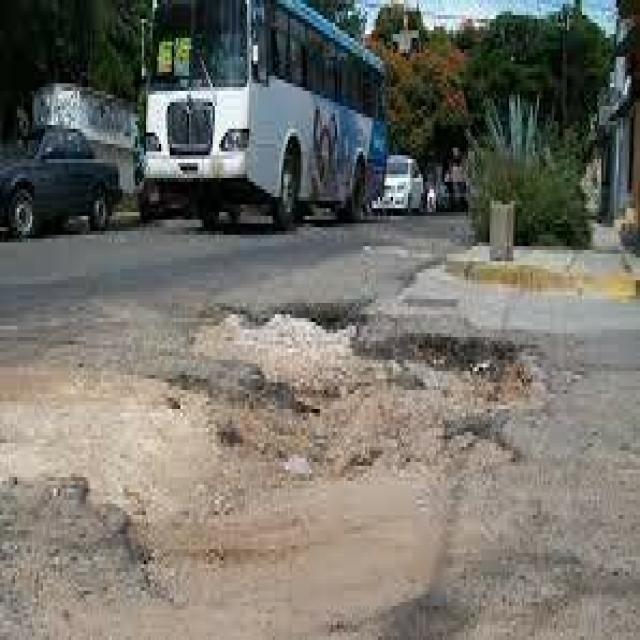Pothole: (28, 262, 603, 580)
